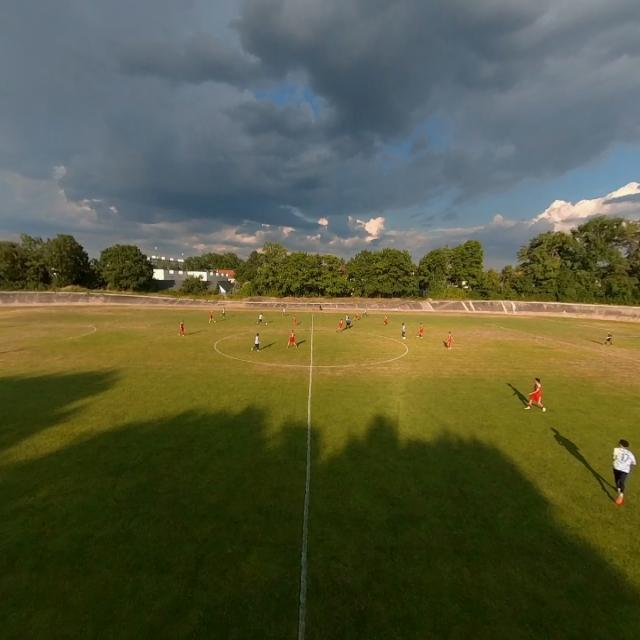ball: (265, 321, 267, 326)
